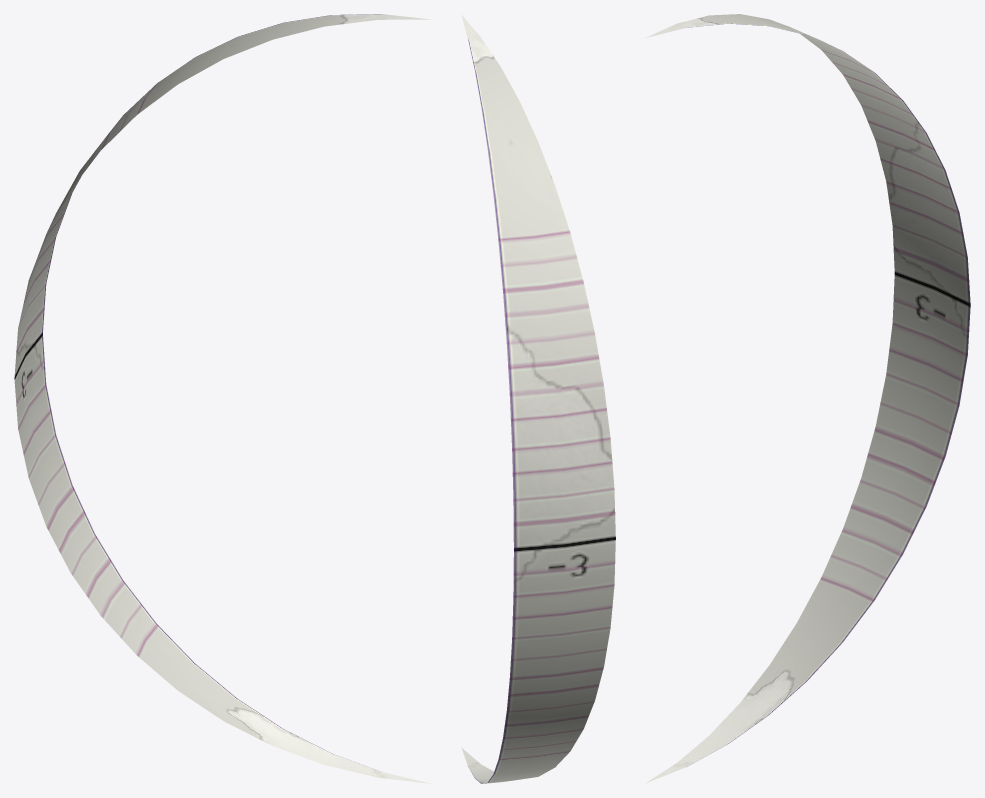
The model's file is GMTM3.obj.
The picture shows the model from 3 angles, left to right: view 1: azimuth 30°, elevation 25°; view 2: azimuth 150°, elevation 25°; view 3: azimuth 270°, elevation 25°; orthographic projection. The views are drawn at different scales.
Parts seen in each view (by area): view 1: GMTM03; view 2: GMTM03; view 3: GMTM03.
Boxes of the visible parts, x1,y1,x2,y2 form: GMTM03: (14, 14, 431, 783); GMTM03: (461, 14, 615, 783); GMTM03: (645, 14, 970, 783).
Bounding box in the file's own units: 203 × 512 × 203.
Materials: 1 (1 with a texture image).
